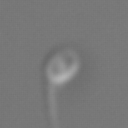abnormal: (37, 74, 78, 128)
